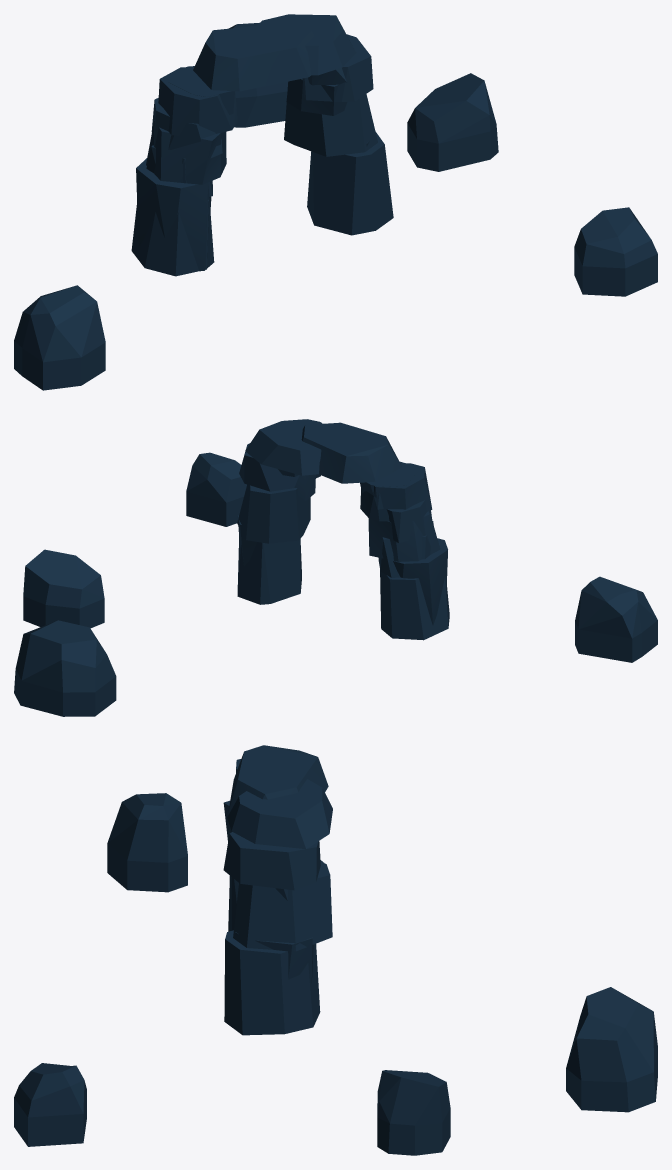
Rendered from Model_Deco_rock.FBX.
The picture shows the model from 3 angles, top to bottom: view 1: azimuth 30°, elevation 25°; view 2: azimuth 150°, elevation 25°; view 3: azimuth 270°, elevation 25°; orthographic projection. The views are drawn at different scales.
Visible parts, largest first — view 1: Model_Deco_rock_96, Model_Deco_rock_97, Model_Deco_rock_95, Model_Deco_rock_93, Model_Deco_rock_94, Model_Deco_rock_92; view 2: Model_Deco_rock_96, Model_Deco_rock_97, Model_Deco_rock_92, Model_Deco_rock_95, Model_Deco_rock_93, Model_Deco_rock_94; view 3: Model_Deco_rock_96, Model_Deco_rock_92, Model_Deco_rock_95, Model_Deco_rock_93, Model_Deco_rock_97, Model_Deco_rock_94.
Part boxes in pixels (x1,y1,x2,y2): Model_Deco_rock_96: [131, 14, 393, 276]; Model_Deco_rock_97: [136, 23, 369, 271]; Model_Deco_rock_95: [14, 285, 105, 390]; Model_Deco_rock_93: [407, 73, 498, 171]; Model_Deco_rock_94: [574, 207, 657, 296]; Model_Deco_rock_92: [229, 22, 287, 127]; Model_Deco_rock_96: [237, 419, 449, 640]; Model_Deco_rock_97: [237, 422, 447, 625]; Model_Deco_rock_92: [14, 620, 116, 716]; Model_Deco_rock_95: [575, 576, 657, 662]; Model_Deco_rock_93: [23, 549, 104, 628]; Model_Deco_rock_94: [186, 452, 246, 526]; Model_Deco_rock_96: [223, 779, 332, 1035]; Model_Deco_rock_92: [566, 987, 657, 1112]; Model_Deco_rock_95: [107, 793, 187, 892]; Model_Deco_rock_93: [377, 1070, 450, 1155]; Model_Deco_rock_97: [223, 745, 328, 984]; Model_Deco_rock_94: [14, 1063, 86, 1146].
Bounding box in the file's own units: 2186 × 795 × 1980.
